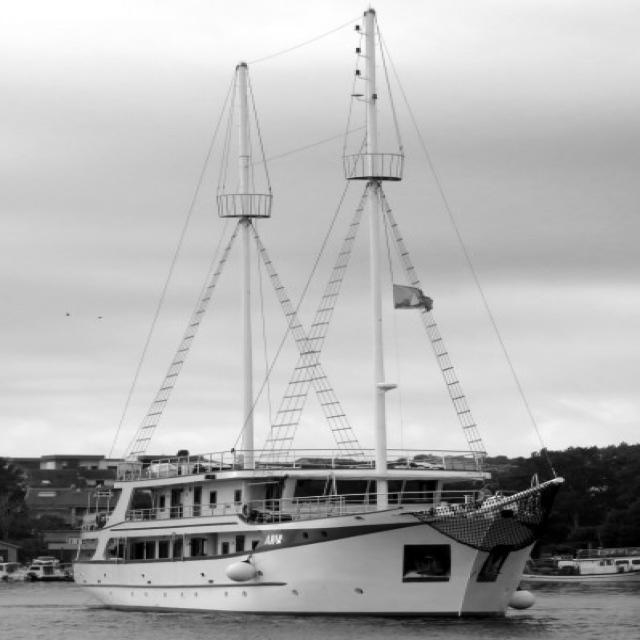cruises: (68, 429, 569, 629)
